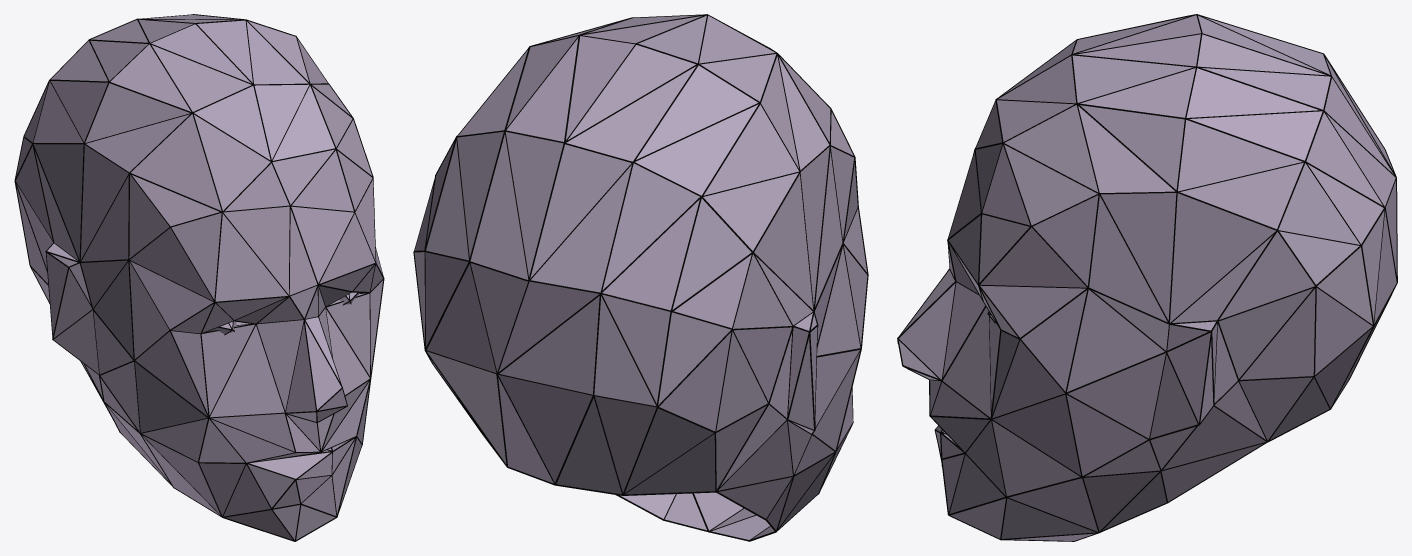
Rendered from player-violet.glb.
3 views of the same model, side by side, from view 1: azimuth 30°, elevation 25°; view 2: azimuth 150°, elevation 25°; view 3: azimuth 270°, elevation 25° (orthographic). The views are drawn at different scales.
Visible parts, largest first — view 1: polySurface26 (×2); view 2: polySurface26 (×2); view 3: polySurface26 (×2).
Boxes of the visible parts, x1,y1,x2,y2 form: polySurface26 (×2): [14, 14, 384, 541]; polySurface26 (×2): [413, 14, 868, 541]; polySurface26 (×2): [897, 14, 1397, 541].
Bounding box in the file's own units: 4.19 × 6.06 × 5.58.
